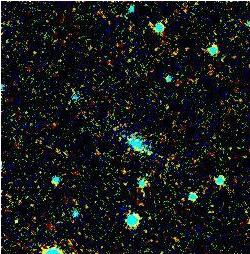star: (0, 204, 29, 234)
